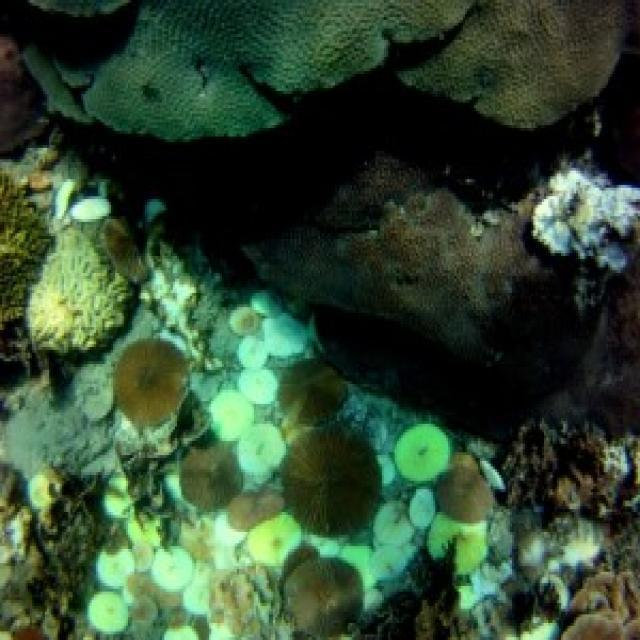Bleached: (17, 225, 136, 353), (528, 163, 640, 271)
Healthy: (5, 1, 640, 146)
